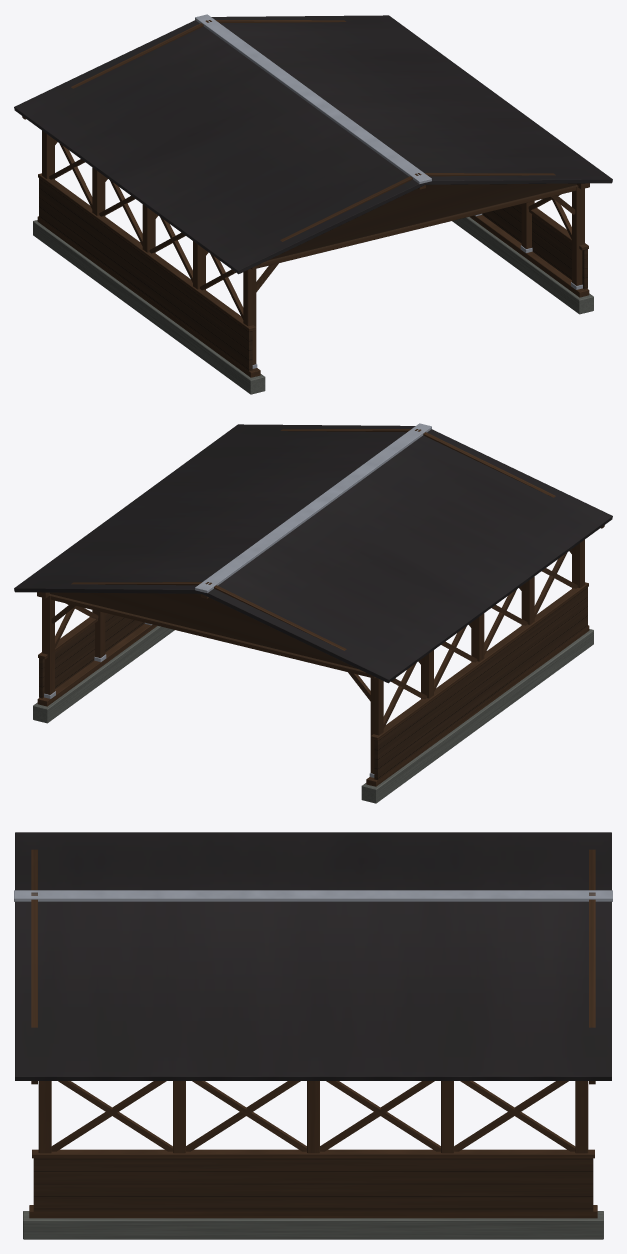
File: Landmark_CoveredBridge.fbx
The picture shows the model from 3 angles, top to bottom: view 1: azimuth 30°, elevation 25°; view 2: azimuth 150°, elevation 25°; view 3: azimuth 270°, elevation 25°; orthographic projection. The views are drawn at different scales.
Parts seen in each view (by area): view 1: Landmark_CoveredBridge_Structure; view 2: Landmark_CoveredBridge_Structure; view 3: Landmark_CoveredBridge_Structure.
Boxes of the visible parts, <box> form: Landmark_CoveredBridge_Structure: <box>14,14,612,394</box>; Landmark_CoveredBridge_Structure: <box>14,423,612,803</box>; Landmark_CoveredBridge_Structure: <box>14,832,612,1239</box>.
Size of the model in its own units: 64.61 by 28.91 by 67.
1 material, 1 textured.
